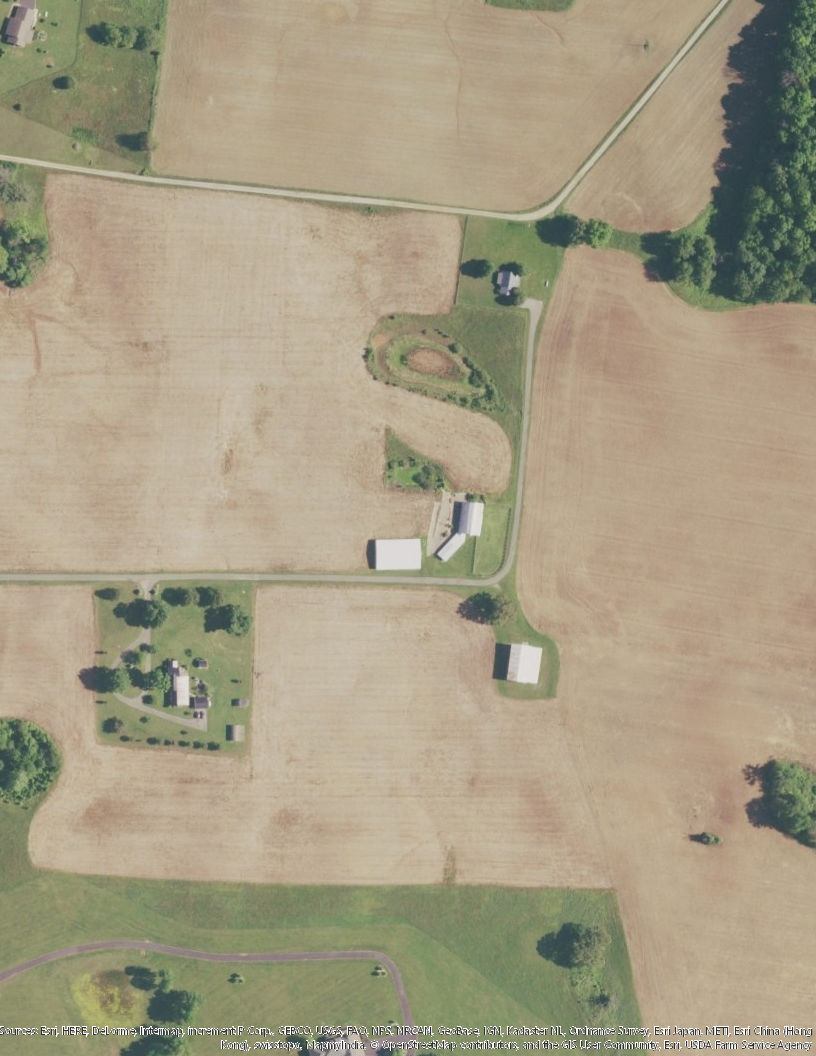cafo: (432, 490, 492, 570), (367, 533, 423, 573), (504, 636, 546, 687)
